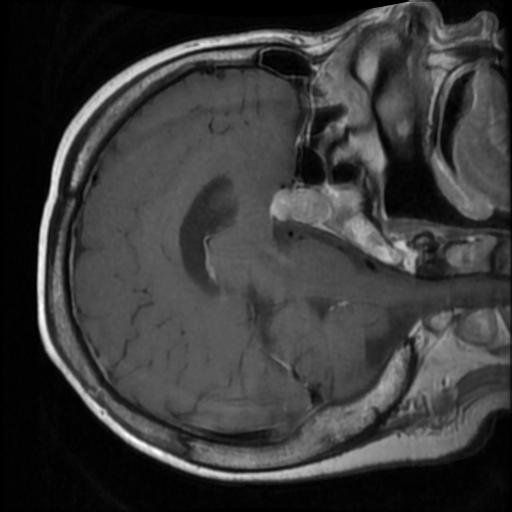pituitary tumour: (271, 188, 329, 224)
